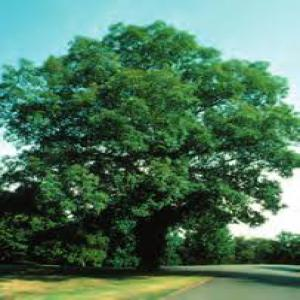Tree: (0, 19, 294, 271)
